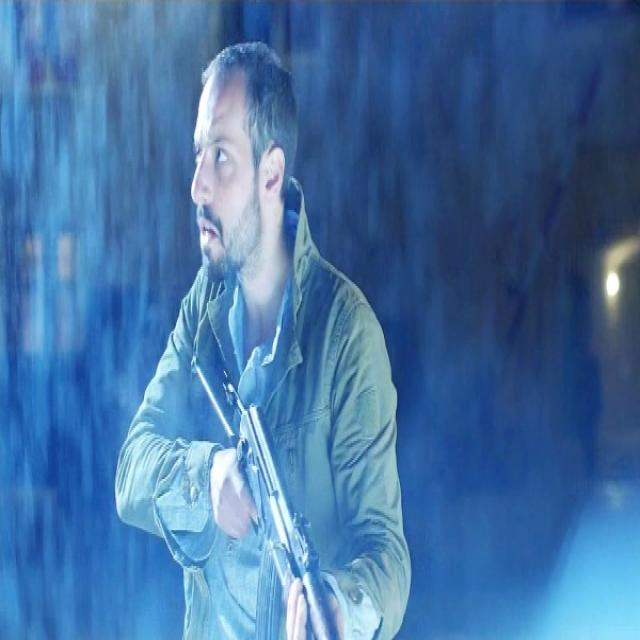rifle: (191, 355, 339, 640)
